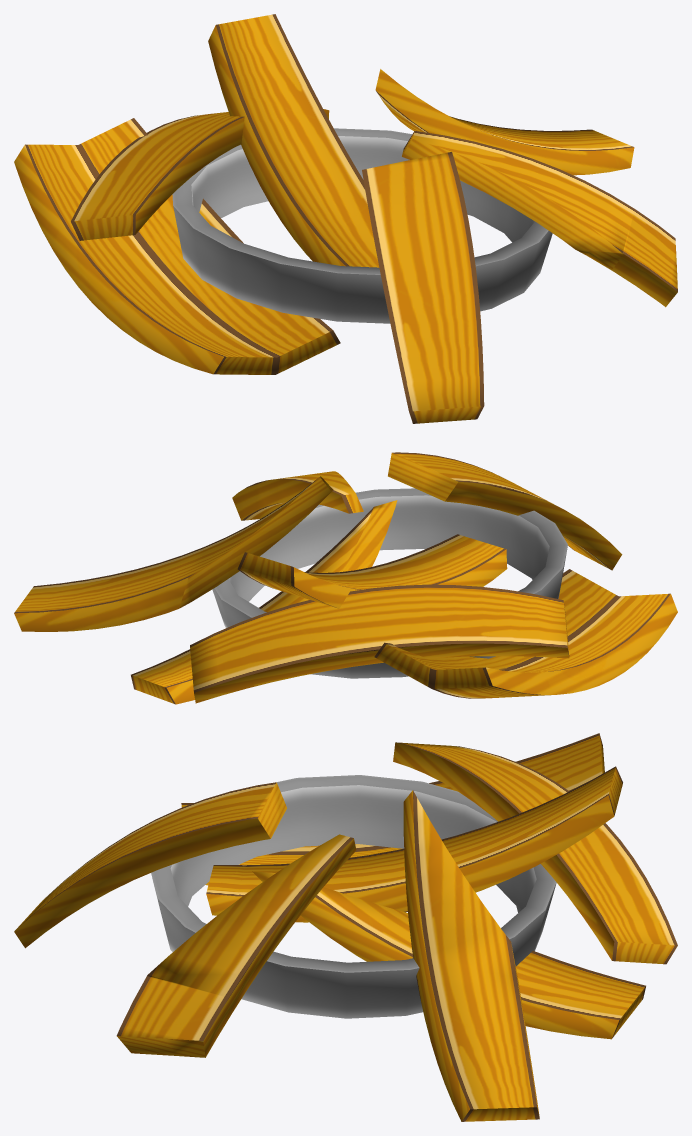
File: barrel_broken.fbx
The picture shows the model from 3 angles, top to bottom: view 1: azimuth 30°, elevation 25°; view 2: azimuth 150°, elevation 25°; view 3: azimuth 270°, elevation 25°; orthographic projection. The views are drawn at different scales.
Parts seen in each view (by area): view 1: Null_1; view 2: Null_1; view 3: Null_1.
Boxes of the visible parts, x1=… form: Null_1: x1=14, y1=14, x2=677, y2=423; Null_1: x1=14, y1=452, x2=677, y2=704; Null_1: x1=14, y1=733, x2=677, y2=1121.
Size of the model in its own units: 179 by 57.67 by 170.
1 material, 1 textured.
